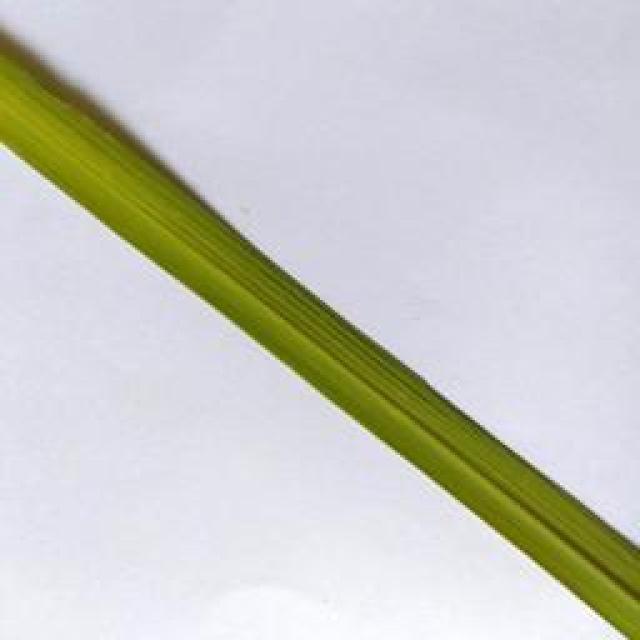Healthy-Plant: (0, 45, 219, 221), (425, 485, 640, 640), (289, 383, 563, 502), (168, 276, 429, 397), (70, 206, 305, 306)
